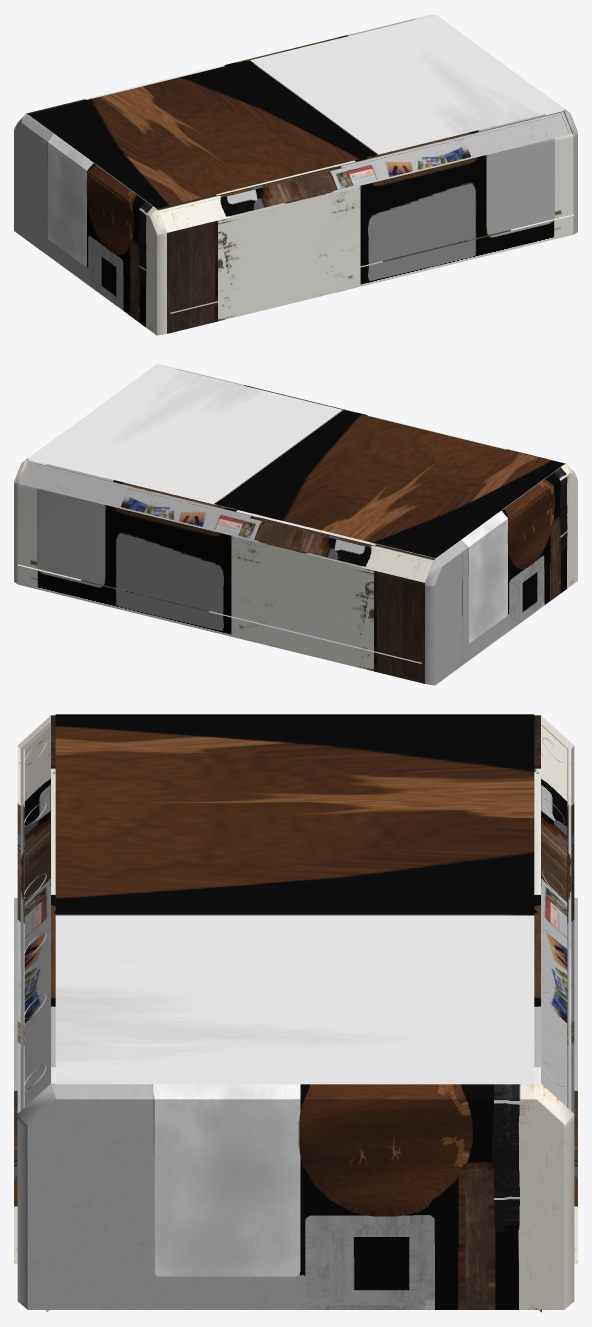
Rendered from cargarage.fbx.
3 views of the same model, one above another, from view 1: azimuth 30°, elevation 25°; view 2: azimuth 150°, elevation 25°; view 3: azimuth 270°, elevation 25° (orthographic). The views are drawn at different scales.
Parts seen in each view (by area): view 1: Cube_0; view 2: Cube_0, Cube_1; view 3: Cube_0.
Boxes of the visible parts, x1=… form: Cube_0: x1=14, y1=14, x2=577, y2=335; Cube_0: x1=14, y1=364, x2=577, y2=685; Cube_1: x1=30, y1=459, x2=563, y2=558; Cube_0: x1=14, y1=714, x2=577, y2=1312.
Bounding box in the file's own units: 1653 × 452 × 1034.
